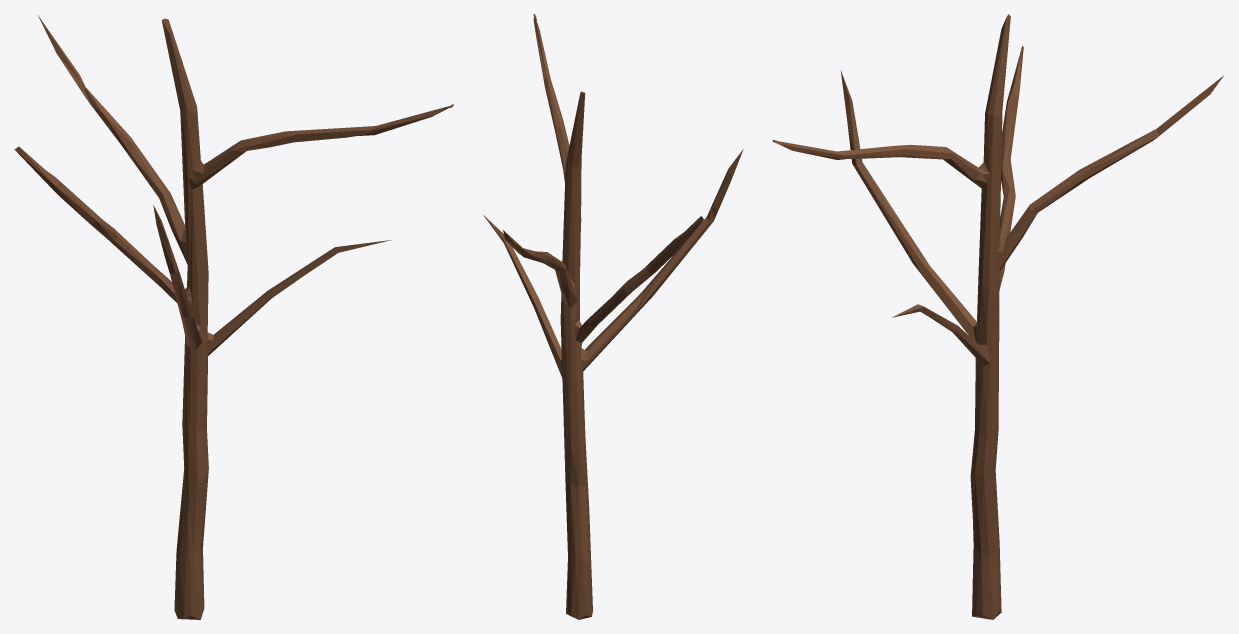
The model's file is SM_tree_winter_01.fbx.
3 views of the same model, side by side, from view 1: azimuth 30°, elevation 25°; view 2: azimuth 150°, elevation 25°; view 3: azimuth 270°, elevation 25° (orthographic). The views are drawn at different scales.
Parts seen in each view (by area): view 1: Object064; view 2: Object064; view 3: Object064.
Part boxes in pixels (<box>): Object064: <box>14,15,453,619</box>; Object064: <box>483,14,743,619</box>; Object064: <box>772,14,1223,619</box>.
Bounding box in the file's own units: 101 × 125 × 181.
